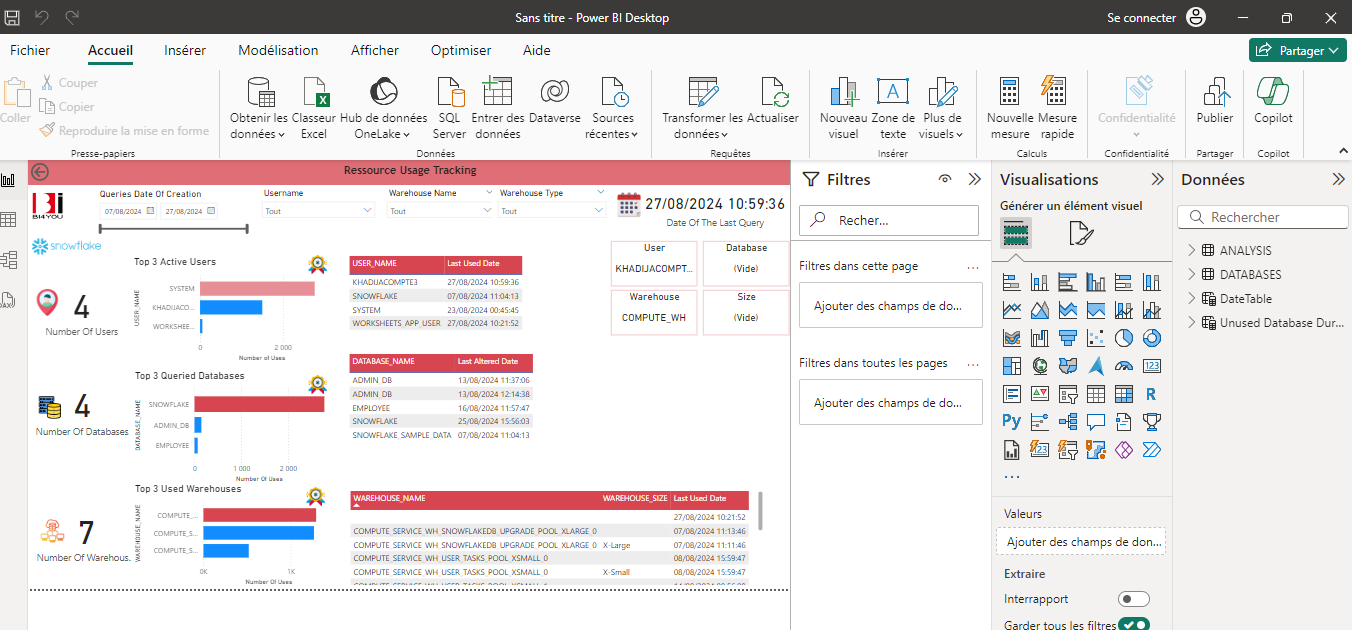

What the dashboard file says about the page in this screenshot:
{"tool":"powerbi","page":{"name":"Resource Usage Tracking","canvas":[1280,720],"ordinal":3},"visuals":[{"type":"shape","box":[0,0,1280.5,42.4],"z":0},{"type":"slicer","fields":{"Values":["ANALYSIS.WAREHOUSE_NAME"]},"box":[593,42,201.6,87.3],"z":1000},{"type":"slicer","fields":{"Values":["ANALYSIS.USER_NAME"]},"box":[383,42,210,87.3],"z":2000},{"type":"slicer","fields":{"Values":["ANALYSIS.START_TIME"]},"box":[107.5,42,275.5,87.3],"z":3000},{"type":"actionButton","box":[0,0,100,40],"z":4000},{"type":"image","box":[0,86.7,145,115],"z":5000},{"type":"card","fields":{"Values":["ANALYSIS.START_TIME"]},"box":[1027.7,42.6,252.3,80.1],"z":6000},{"type":"image","box":[959.6,49.4,100.6,52.8],"z":7000},{"type":"card","fields":{"Values":["ANALYSIS.USER_NAME"]},"box":[0,196.8,180,106.7],"z":8000},{"type":"tableEx","fields":{"Values":["ANALYSIS.USER_NAME","ANALYSIS.LastUsedDateForUsername"]},"box":[534.9,156.4,324.6,161.5],"z":9000},{"type":"image","box":[0,211.8,65,55],"z":10000},{"type":"image","box":[0,49.8,65.9,52.7],"z":11000},{"type":"slicer","fields":{"Values":["ANALYSIS.WAREHOUSE_SIZE"]},"box":[778.8,42,201.8,87.5],"z":12000},{"type":"tableEx","fields":{"Values":["DATABASES.DATABASE_NAME","DATABASES.LAST_ALTERED"]},"box":[534.2,320.8,557.7,218.4],"z":13000},{"type":"card","fields":{"Values":["DATABASES.DATABASE_NAME"]},"box":[6.9,356.4,168.3,121.7],"z":15000},{"type":"image","box":[11.9,389.8,50,51.7],"z":16000},{"type":"card","fields":{"Values":["ANALYSIS.WAREHOUSE_NAME"]},"box":[8.8,568.7,178.3,120],"z":17000},{"type":"image","box":[10.5,598.7,61.7,50],"z":18000},{"type":"tableEx","fields":{"Values":["ANALYSIS.WAREHOUSE_NAME","ANALYSIS.WAREHOUSE_SIZE","Unused Database Duration.LastUsedDateForWarehouse"]},"box":[535.9,551.2,704.3,168.4],"z":19000},{"type":"barChart","title":"Top 3 Queried Databases","fields":{"Y":["ANALYSIS.DATABASE_NAME"],"Category":["ANALYSIS.DATABASE_NAME"]},"box":[174.9,351.5,343.1,195.1],"z":20000},{"type":"image","box":[427.2,351.5,119.4,52.1],"z":21000},{"type":"card","title":"User","fields":{"Values":["Unused Database Duration.LastQueryUser"]},"box":[978.9,136.2,144.7,75.7],"z":22000},{"type":"image","box":[423.9,156.4,90.8,52.1],"z":23000},{"type":"barChart","title":"Top 3 Active Users","fields":{"Category":["ANALYSIS.USER_NAME"],"Y":["ANALYSIS.USER_NAME"]},"box":[173.2,159.8,344.8,183.3],"z":24000},{"type":"barChart","title":"Top 3 Used Warehouses","fields":{"Category":["ANALYSIS.WAREHOUSE_NAME"],"Y":["ANALYSIS.WAREHOUSE_NAME"]},"box":[174.9,541.6,359.9,178.3],"z":25000},{"type":"image","box":[423.9,539.9,119.4,52.1],"z":26000},{"type":"image","box":[427.2,149.7,119.4,52.1],"z":27000},{"type":"card","title":"Database","fields":{"Values":["Unused Database Duration.LastQuerydb"]},"box":[1133.7,136.2,144.7,75.7],"z":28000},{"type":"card","title":"Warehouse","fields":{"Values":["Unused Database Duration.LastQuerywh"]},"box":[978.9,218.7,144.7,75.7],"z":29000},{"type":"card","title":"Size","fields":{"Values":["Unused Database Duration.LastQuerywhsize"]},"box":[1133.7,218.8,144.7,75.7],"z":30000},{"type":"textbox","box":[215,0,848.3,35.3],"z":31000}]}

Visuals, with their boxes on the page's 1280x720 design canvas (x1, y1, x2, y2). These are canvas units, not pixel positions in the 1352x630 screenshot, which may show the page scaled, cropped or inside an application window:
shape: (0,0,1280,42)
slicer - ANALYSIS.WAREHOUSE_NAME: (593,42,795,129)
slicer - ANALYSIS.USER_NAME: (383,42,593,129)
slicer - ANALYSIS.START_TIME: (108,42,383,129)
actionButton: (0,0,100,40)
image: (0,87,145,202)
card - ANALYSIS.START_TIME: (1028,43,1280,123)
image: (960,49,1060,102)
card - ANALYSIS.USER_NAME: (0,197,180,304)
tableEx - ANALYSIS.USER_NAME x ANALYSIS.LastUsedDateForUsername: (535,156,860,318)
image: (0,212,65,267)
image: (0,50,66,102)
slicer - ANALYSIS.WAREHOUSE_SIZE: (779,42,981,130)
tableEx - DATABASES.DATABASE_NAME x DATABASES.LAST_ALTERED: (534,321,1092,539)
card - DATABASES.DATABASE_NAME: (7,356,175,478)
image: (12,390,62,442)
card - ANALYSIS.WAREHOUSE_NAME: (9,569,187,689)
image: (10,599,72,649)
tableEx - ANALYSIS.WAREHOUSE_NAME x ANALYSIS.WAREHOUSE_SIZE: (536,551,1240,720)
"Top 3 Queried Databases" barChart: (175,352,518,547)
image: (427,352,547,404)
"User" card: (979,136,1124,212)
image: (424,156,515,208)
"Top 3 Active Users" barChart: (173,160,518,343)
"Top 3 Used Warehouses" barChart: (175,542,535,720)
image: (424,540,543,592)
image: (427,150,547,202)
"Database" card: (1134,136,1278,212)
"Warehouse" card: (979,219,1124,294)
"Size" card: (1134,219,1278,294)
textbox: (215,0,1063,35)
